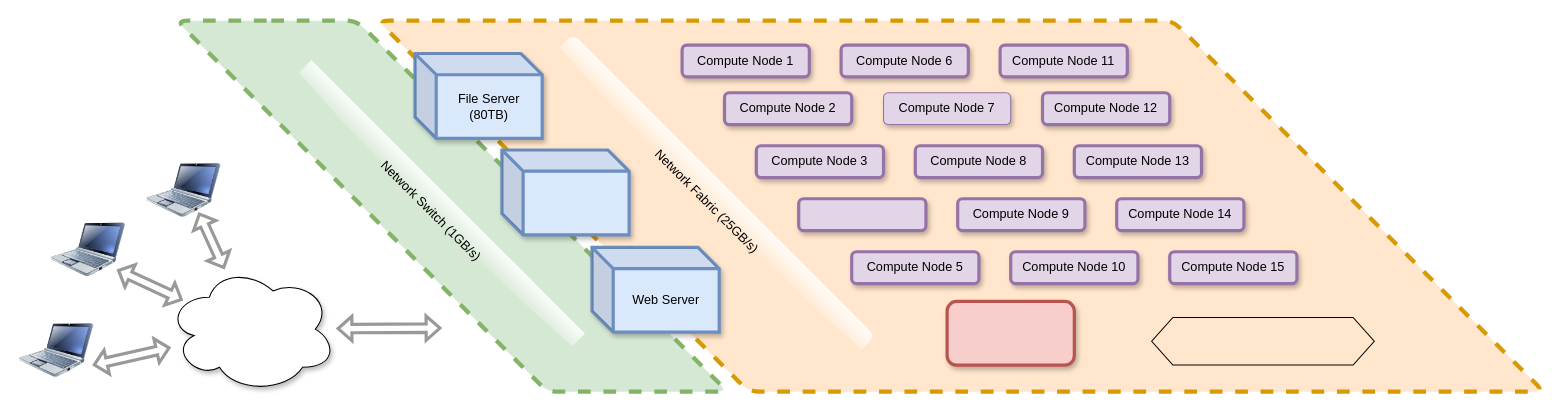
This 1563x419 diagram has some shape labels left out. Here are the shapes that lost their labels. From the top down, the centre of each, then its label:
the point at 566,193: Head Node (Jupyter Hub)
the point at 862,215: Compute Node 4
the point at 252,330: Campus Network
the point at 1011,334: GPU Server
the point at 1262,340: Controlled by: Spark, Ray, Kubernets, Slurm
